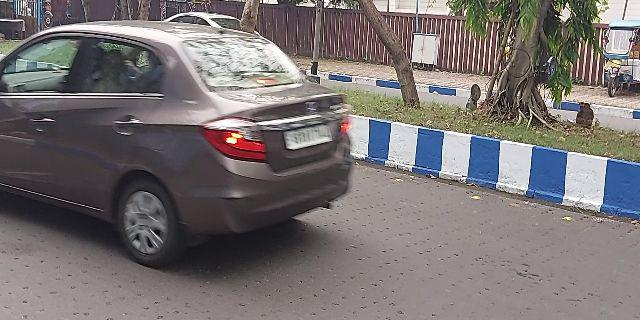Car: (13, 20, 361, 264)
